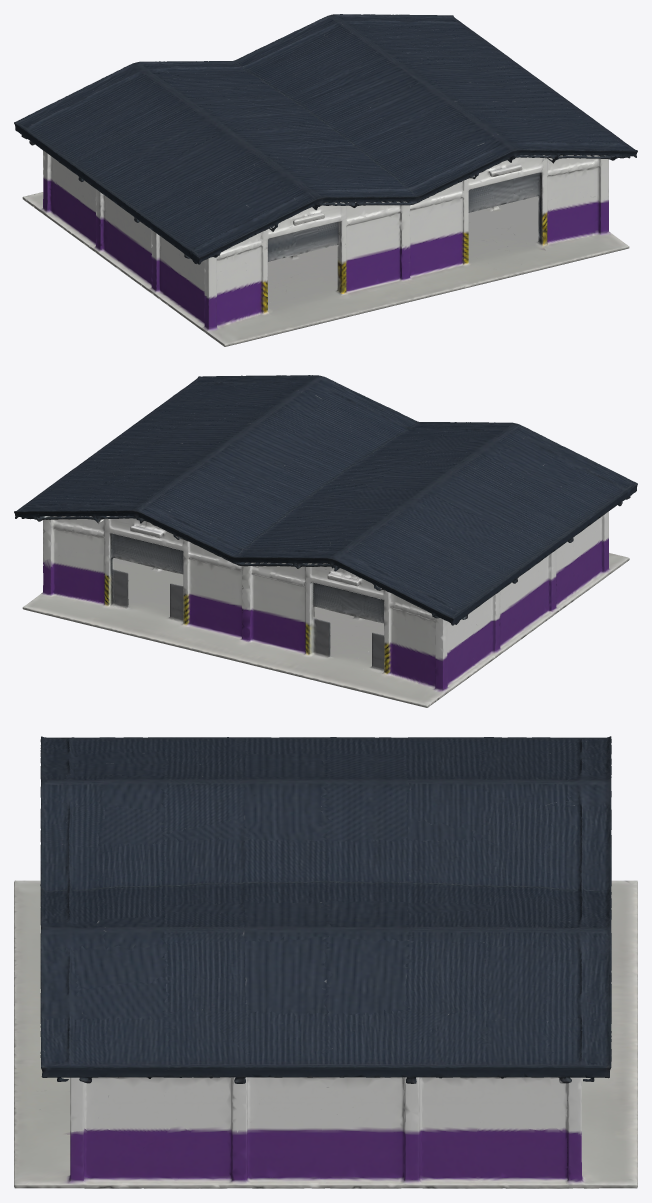
Rendered from bid_26.glb.
The picture shows the model from 3 angles, top to bottom: view 1: azimuth 30°, elevation 25°; view 2: azimuth 150°, elevation 25°; view 3: azimuth 270°, elevation 25°; orthographic projection. The views are drawn at different scales.
Bounding box in the file's own units: 1.9 × 0.4882 × 1.52.
1 material, 1 textured.
